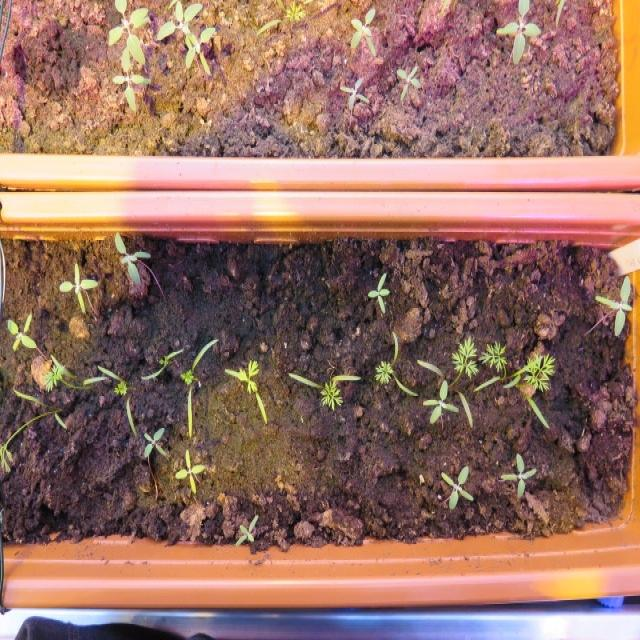weed: (589, 264, 634, 341), (110, 227, 153, 289), (56, 253, 99, 312), (497, 444, 537, 504), (436, 459, 474, 512), (171, 444, 208, 495), (347, 0, 378, 59), (392, 58, 423, 106), (335, 71, 370, 113), (4, 309, 38, 352), (363, 265, 390, 316), (140, 420, 168, 461), (232, 509, 260, 548)
